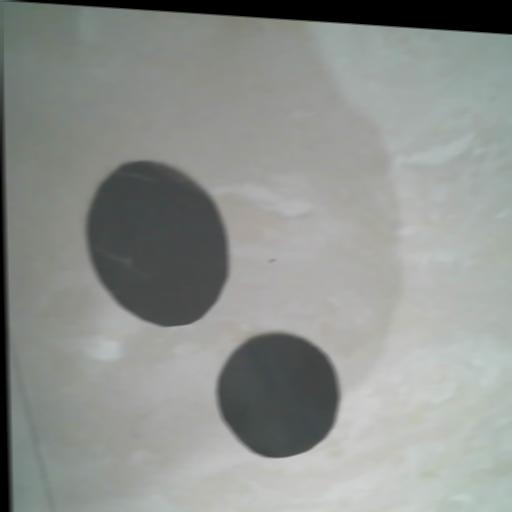pothole: (84, 156, 231, 331), (214, 327, 342, 463)
